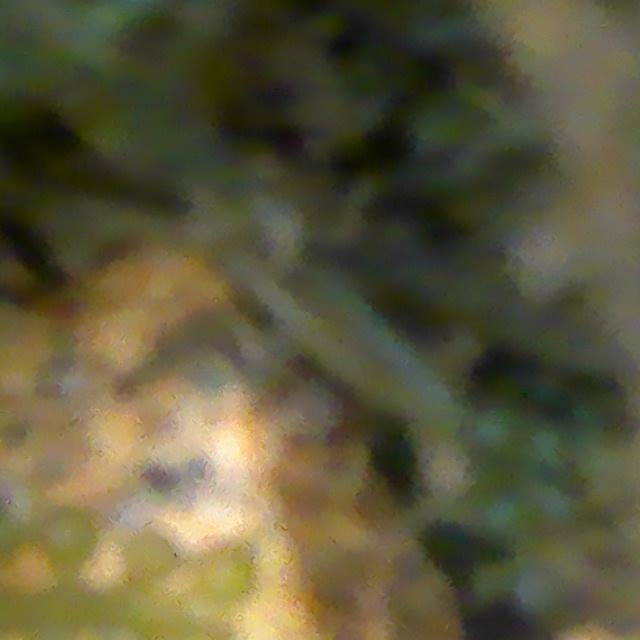SeaGrape: (193, 538, 252, 601), (465, 401, 525, 462), (42, 508, 99, 567), (515, 423, 572, 481), (521, 478, 578, 535), (478, 488, 534, 545)
